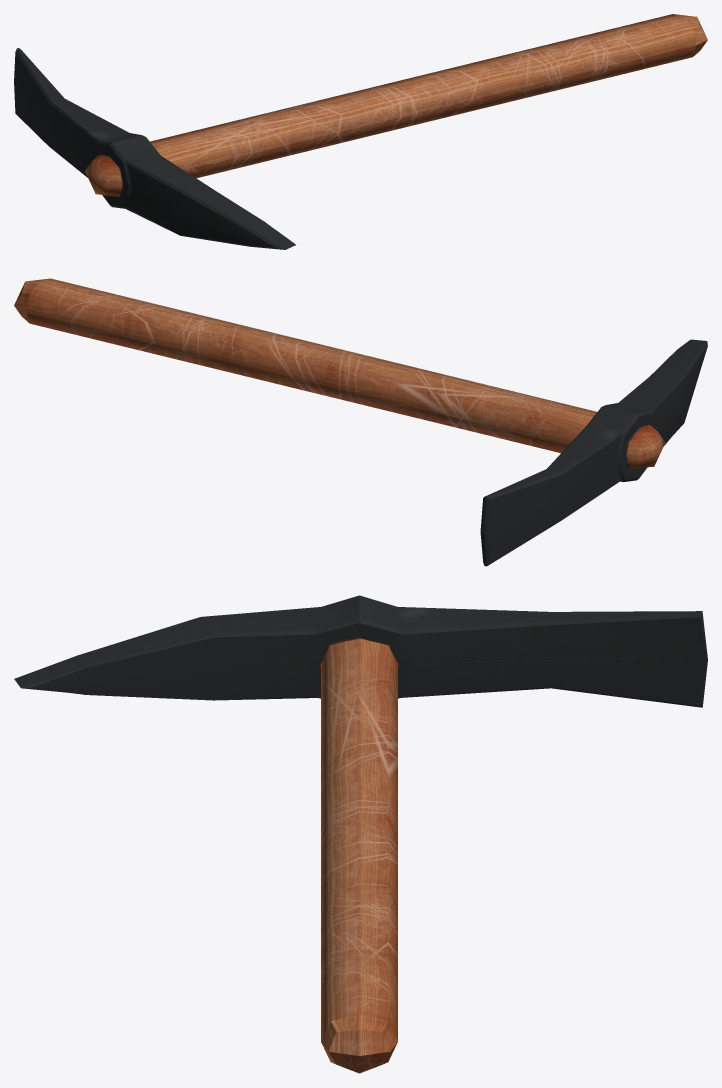
Rendered from PickAxe.obj.
3 views of the same model, one above another, from view 1: azimuth 30°, elevation 25°; view 2: azimuth 150°, elevation 25°; view 3: azimuth 270°, elevation 25° (orthographic). The views are drawn at different scales.
Parts seen in each view (by area): view 1: PickAxe; view 2: PickAxe; view 3: PickAxe.
Part boxes in pixels (x1=…): PickAxe: x1=14, y1=14, x2=707, y2=249; PickAxe: x1=14, y1=278, x2=707, y2=566; PickAxe: x1=14, y1=595, x2=707, y2=1073.
Bounding box in the file's own units: 13.23 × 1.37 × 9.02.
Materials: 1 (1 with a texture image).
